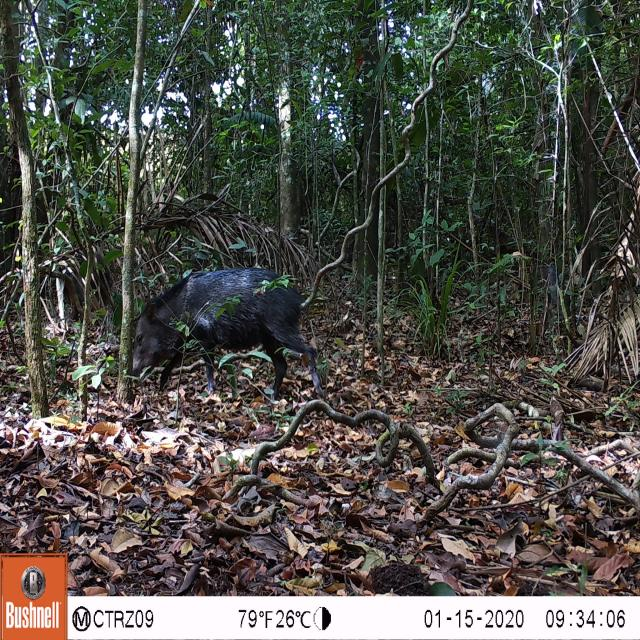White-lipped Peccary: (125, 266, 333, 396)
